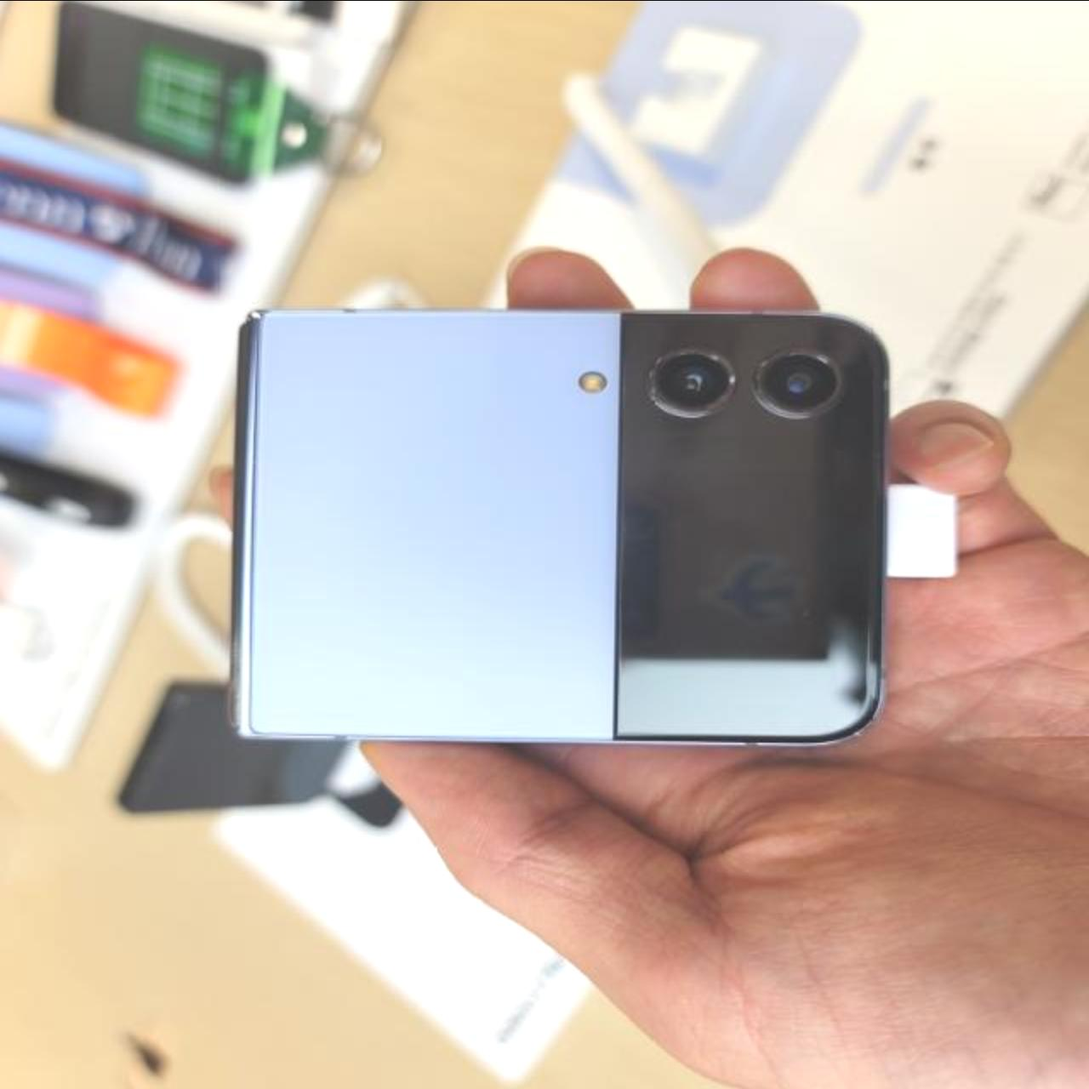phone: (221, 311, 895, 747)
